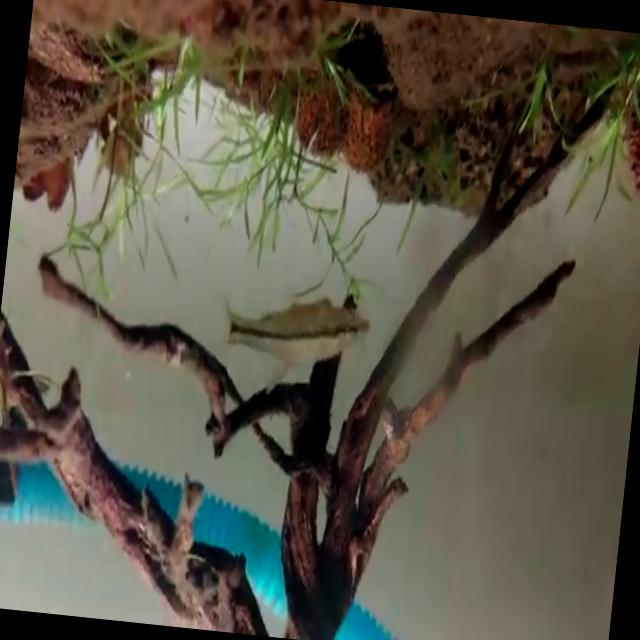Cakil Baligi: (210, 278, 382, 401)
